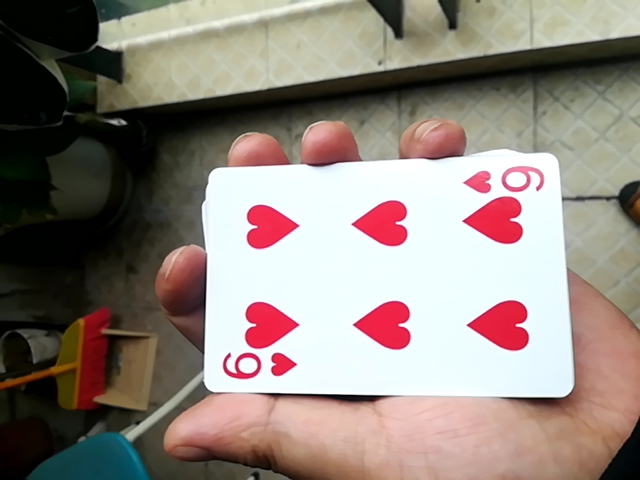hx 6: (200, 157, 571, 402)
